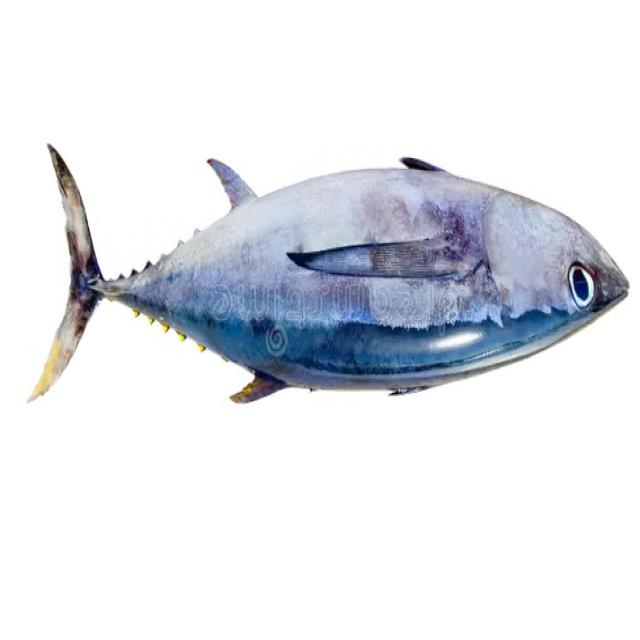Tuna: (26, 138, 629, 401)
